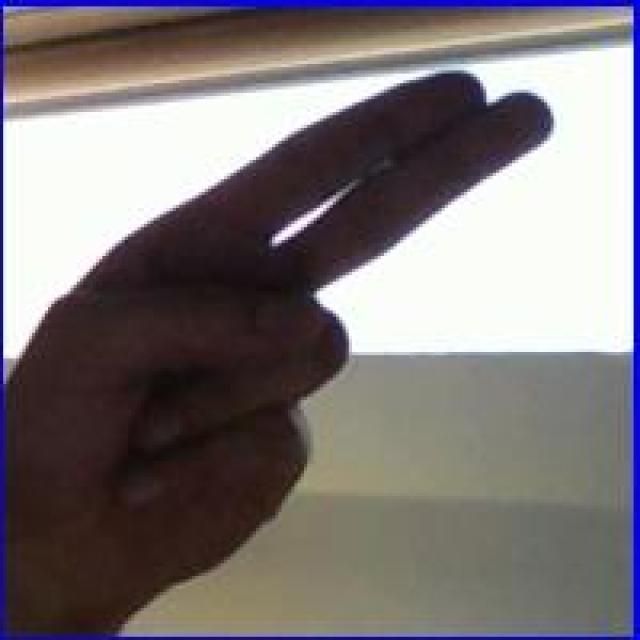H: (13, 64, 563, 595)
